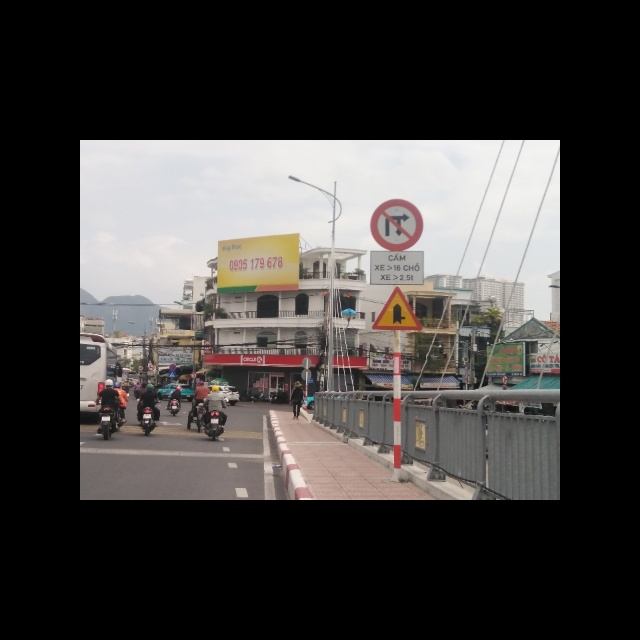Cấm quay đầu và rẽ phải: (369, 200, 422, 250)
Giao nhau với đường không ưu tiên: (371, 287, 422, 331)
